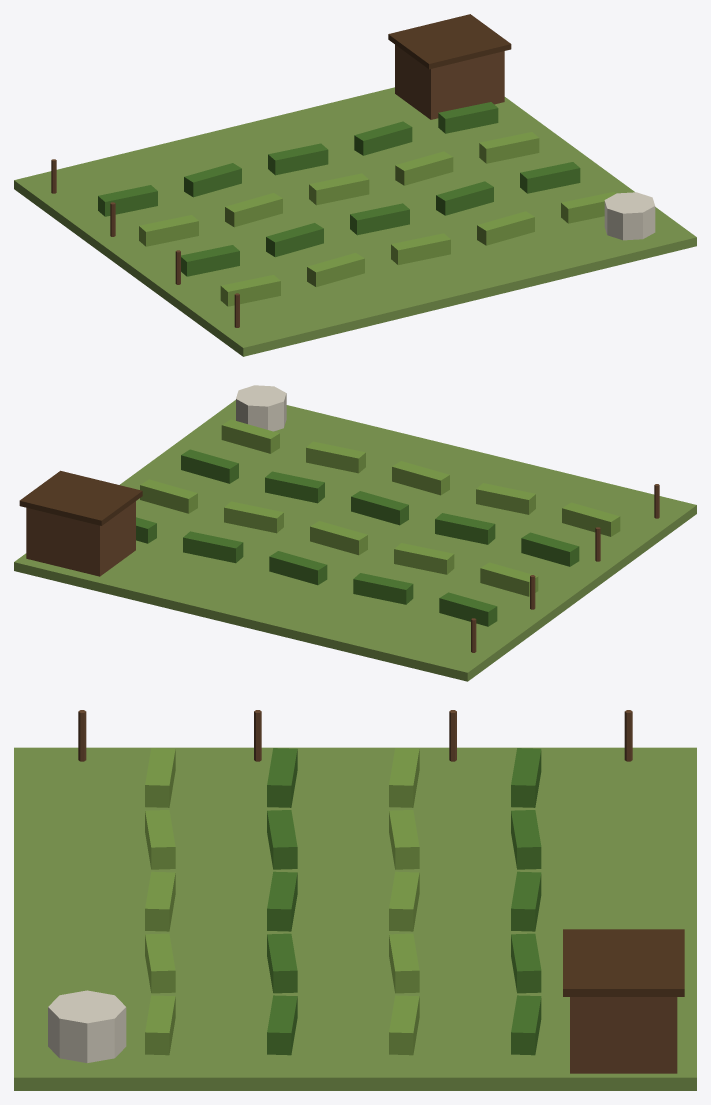
File: landscape.rural-plot.glb
3 views of the same model, one above another, from view 1: azimuth 30°, elevation 25°; view 2: azimuth 150°, elevation 25°; view 3: azimuth 270°, elevation 25° (orthographic). The views are drawn at different scales.
Parts seen in each view (by area): view 1: landscape.rural-plot; view 2: landscape.rural-plot; view 3: landscape.rural-plot.
Boxes of the visible parts, box(x1,y1,x2,y2) form: landscape.rural-plot: box(14, 14, 696, 356); landscape.rural-plot: box(14, 385, 696, 681); landscape.rural-plot: box(14, 710, 696, 1090).
Size of the model in its own units: 16 by 2.28 by 14.
